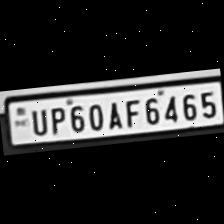0: (82, 99, 106, 131)
4: (159, 92, 179, 124)
5: (195, 88, 218, 120)
6: (64, 102, 87, 134), (176, 89, 198, 121), (140, 94, 160, 126)
A: (103, 98, 123, 130)
F: (121, 96, 141, 128)
P: (44, 104, 66, 136)
U: (26, 106, 49, 138)
